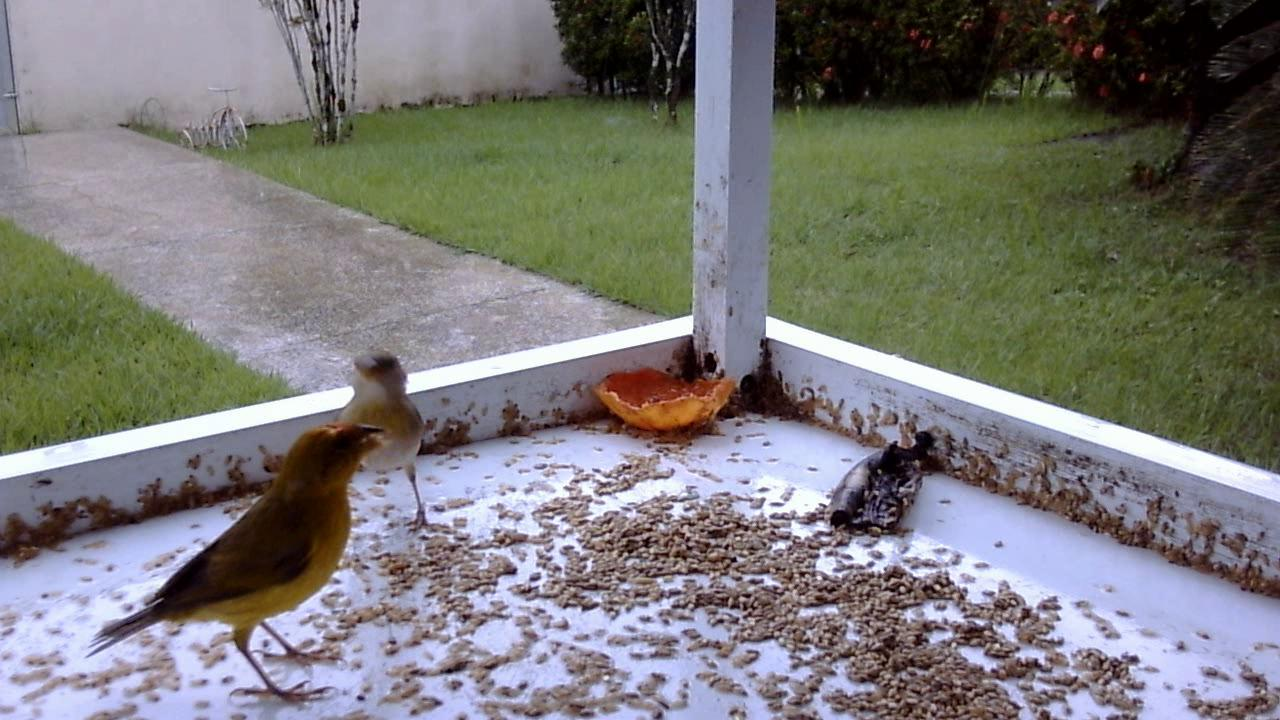canario_do_amazonas: (78, 414, 394, 710), (324, 341, 438, 540)
